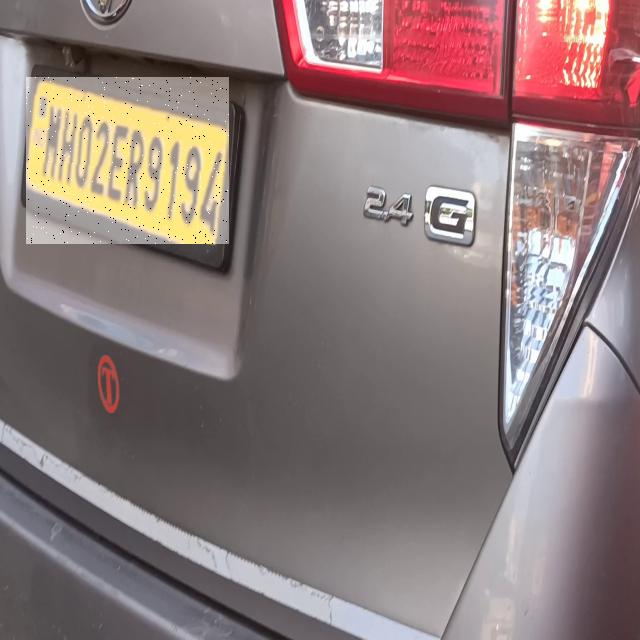Plate: (27, 78, 230, 245)
